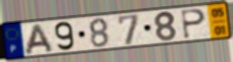7: (116, 13, 141, 47)
8: (153, 11, 178, 42), (89, 18, 111, 49)
9: (54, 21, 76, 51)
A: (23, 23, 55, 56)
P: (180, 8, 207, 40)
